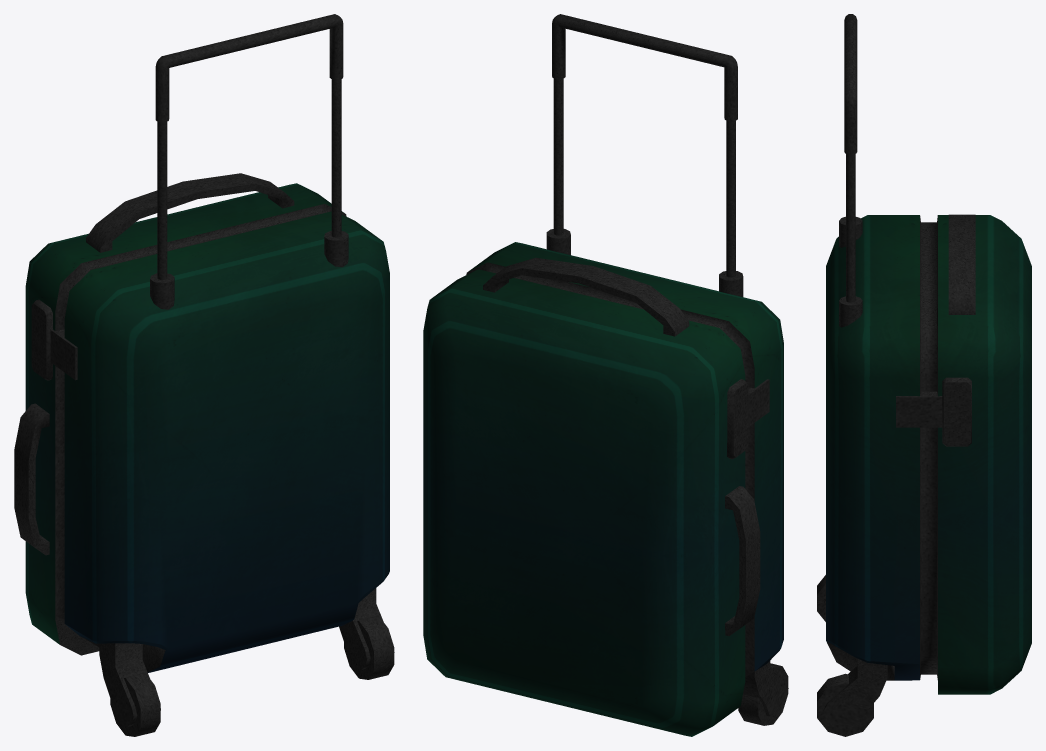
The model's file is suitcase_10.fbx.
The picture shows the model from 3 angles, left to right: view 1: azimuth 30°, elevation 25°; view 2: azimuth 150°, elevation 25°; view 3: azimuth 270°, elevation 25°; orthographic projection. The views are drawn at different scales.
Parts seen in each view (by area): view 1: suitcase_10; view 2: suitcase_10; view 3: suitcase_10.
Part boxes in pixels (x1=…): suitcase_10: x1=14, y1=14, x2=394, y2=736; suitcase_10: x1=423, y1=14, x2=788, y2=736; suitcase_10: x1=817, y1=14, x2=1031, y2=736.
Bounding box in the file's own units: 0.7382 × 1.46 × 0.4539.
